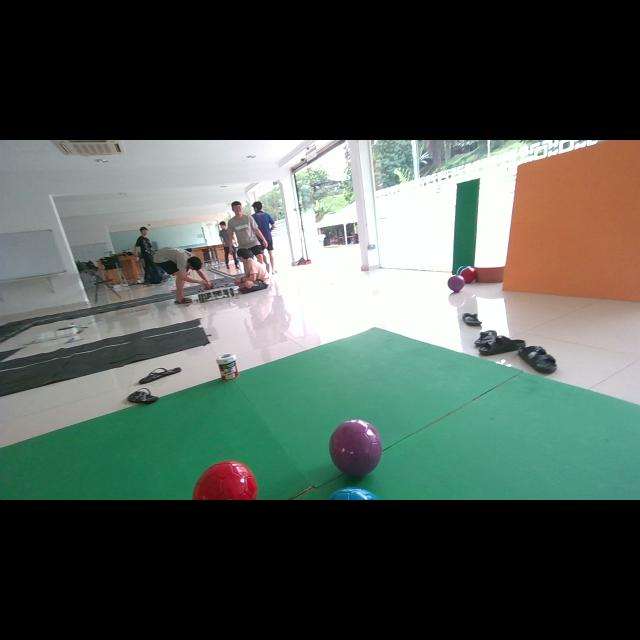R: (329, 420, 382, 476), (192, 460, 258, 500)
